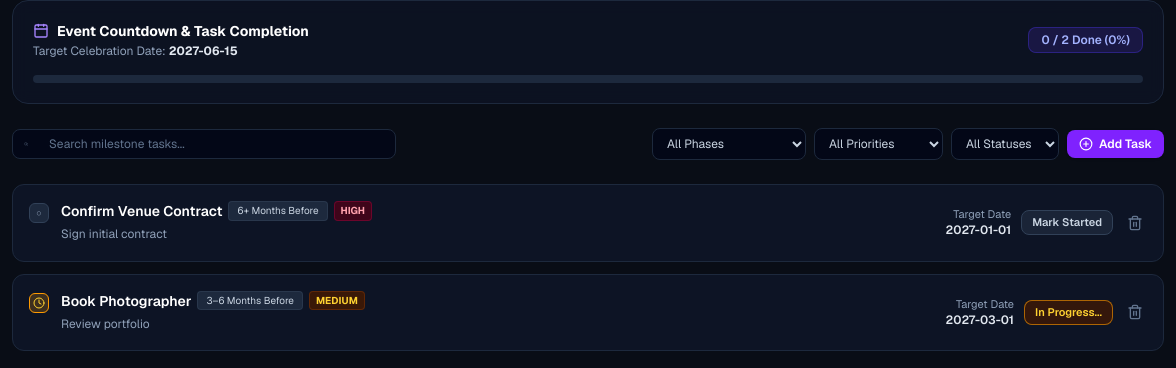
Scenario: TimelineSection Component › filters tasks by search query
Type "Photographer" into the field with placeholder "Search milestone tasks..." at (204, 144), box 12,129 -> 396,159
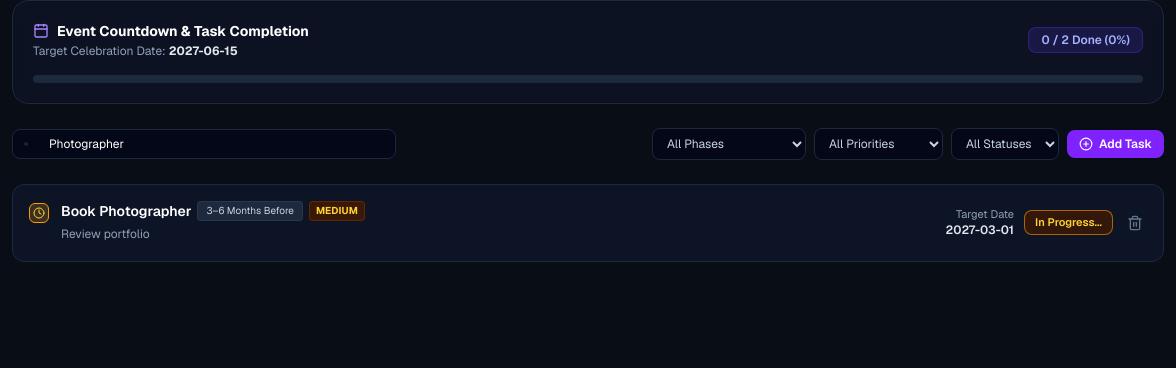
Expected: the heading "Book Photographer" is shown, 61,201 -> 191,221
Result: the heading "Confirm Venue Contract" is gone
